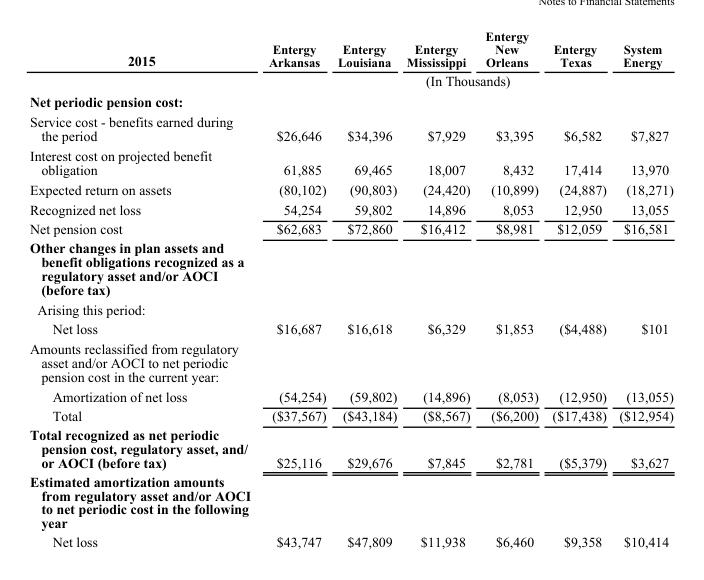table: (29, 29, 672, 549)
table column: (29, 29, 257, 549), (401, 29, 477, 549), (257, 29, 331, 549), (331, 29, 401, 549), (544, 29, 612, 549), (477, 29, 544, 549), (612, 29, 672, 549)
table column header: (29, 29, 672, 90)
table projected row header: (29, 237, 672, 299), (29, 471, 672, 532), (29, 338, 672, 386), (29, 90, 672, 111), (29, 299, 672, 318)
table row: (29, 237, 672, 299), (29, 471, 672, 532), (29, 338, 672, 386), (29, 424, 672, 471), (29, 29, 672, 70), (29, 111, 672, 145), (29, 145, 672, 179), (29, 90, 672, 111), (29, 70, 672, 90), (29, 179, 672, 199), (29, 199, 672, 219), (29, 318, 672, 338), (29, 299, 672, 318), (29, 386, 672, 405), (29, 405, 672, 424), (29, 219, 672, 237), (29, 532, 672, 549)
table spanning cell: (29, 29, 257, 90), (257, 70, 672, 90)
